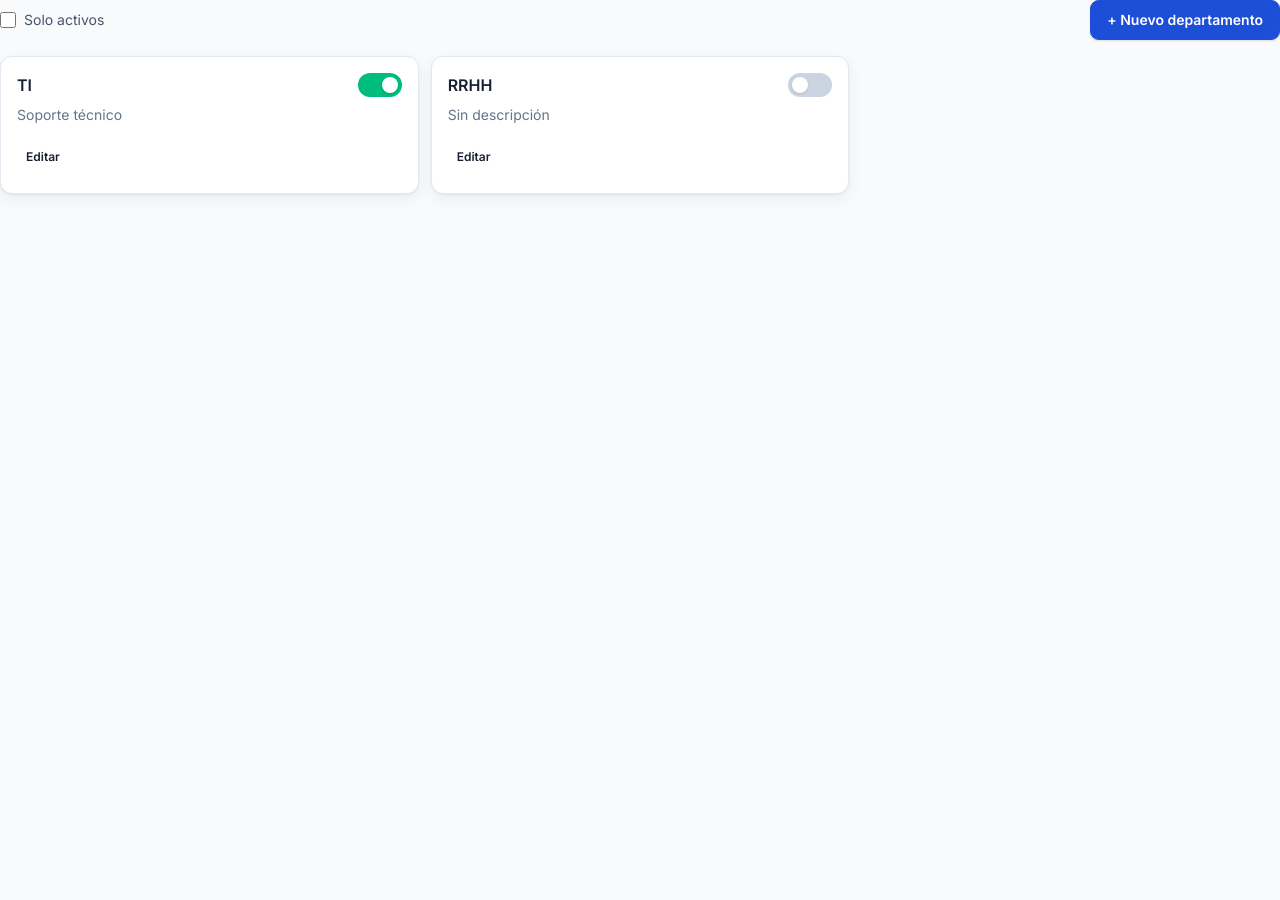
Scenario: Departments › muestra el error dentro del modal al no poder guardar
The width and height of the screenshot is (1280, 900).
Expected: the text "TI" is shown, [17,73,32,97]
Click the button "+ Nuevo departamento" at [1185, 20], box [1090,0,1279,40]
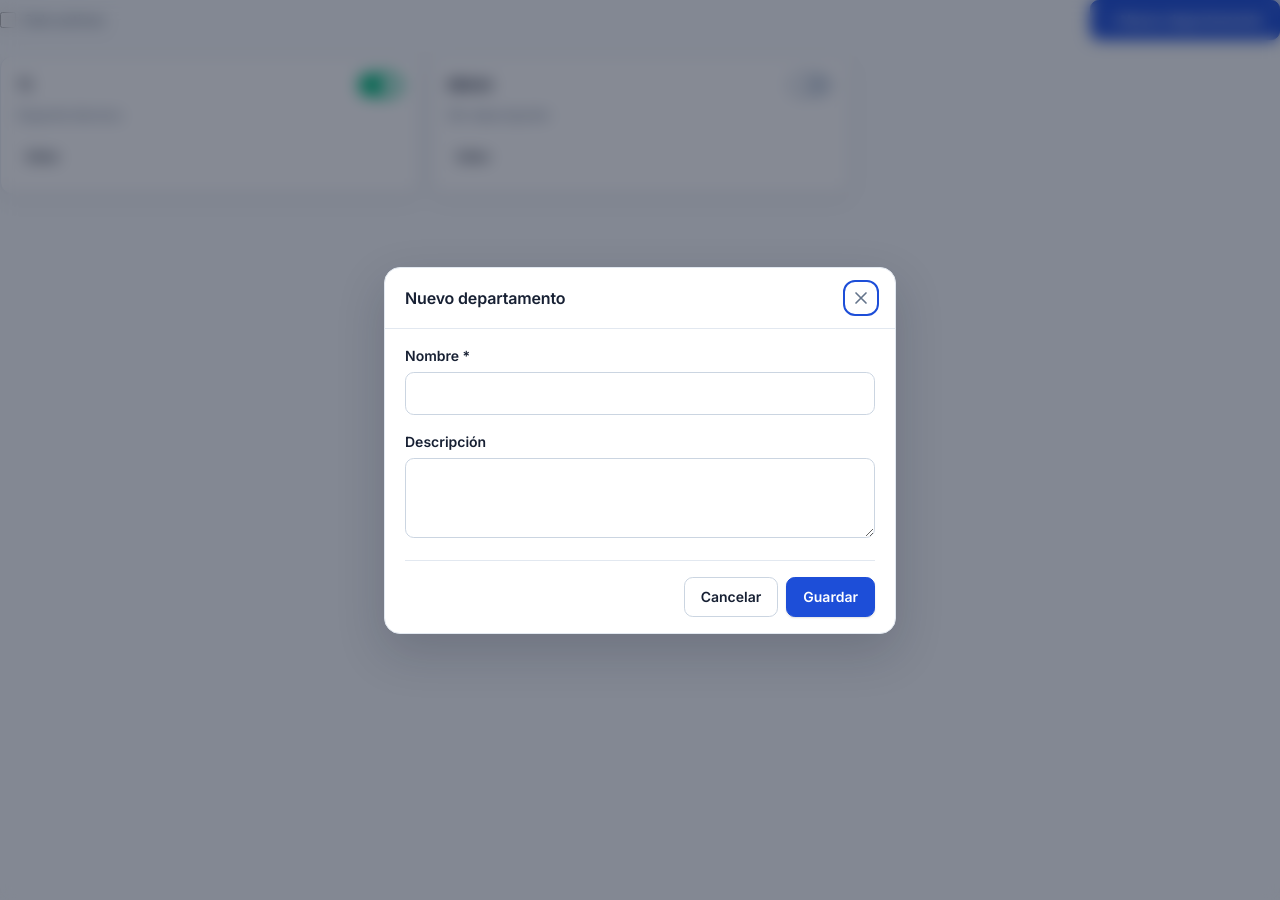
Type "Finanzas" into the field at [640, 393], box [405,372,875,414]
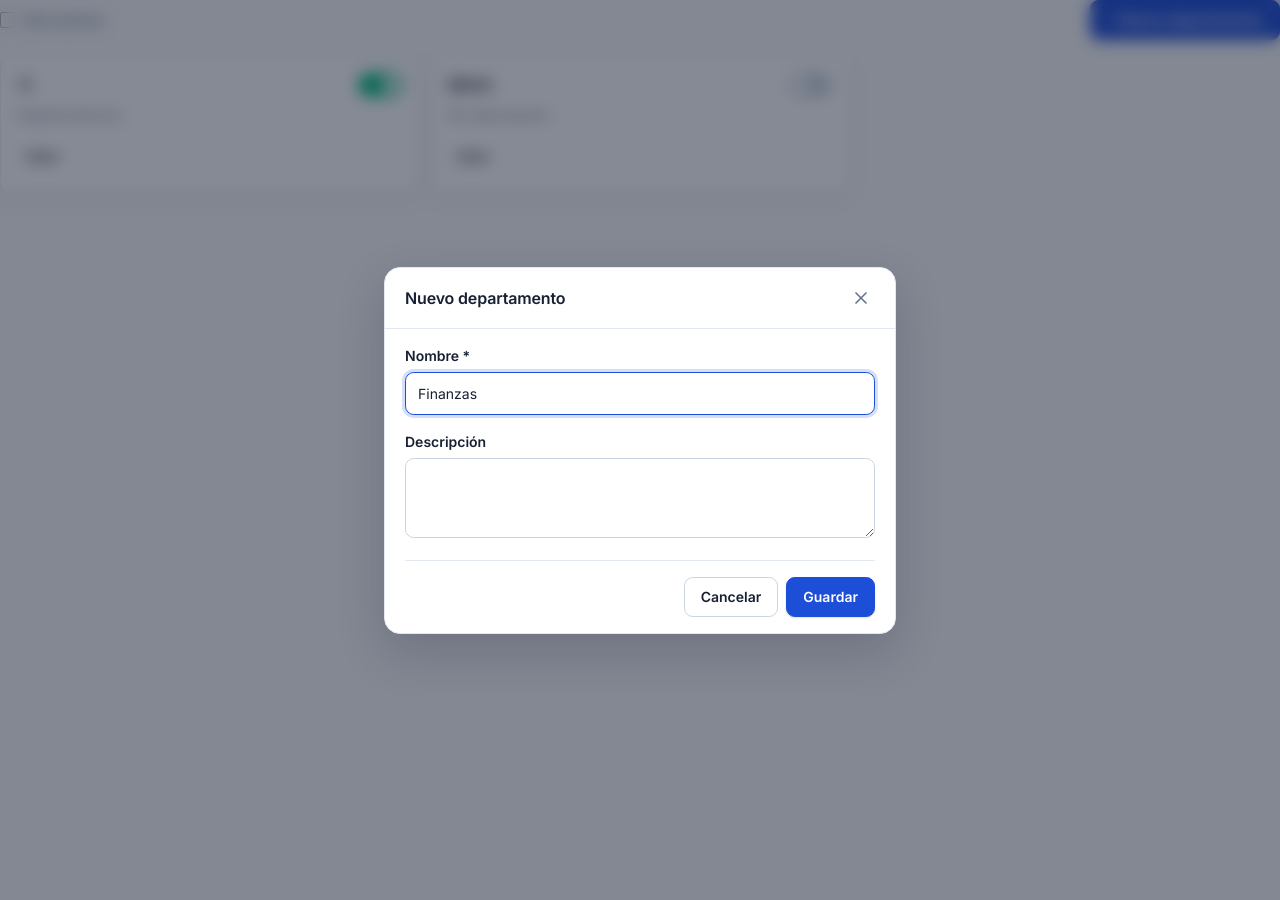
Click the button "Guardar" at [831, 596], box [786,576,875,616]
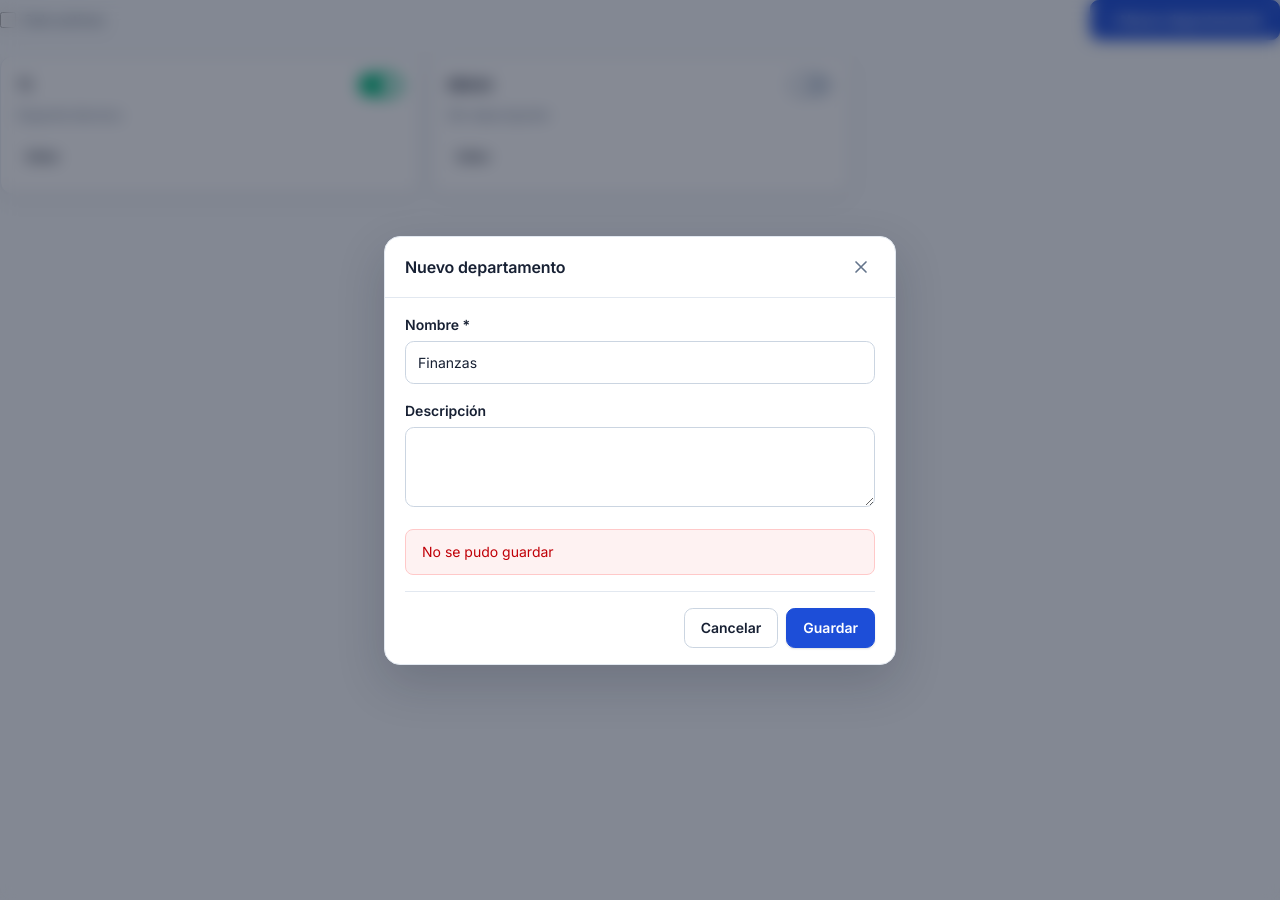
Expected: the dialog "Nuevo departamento" is shown, [384,236,896,664]
Expected: the message "No se pudo guardar" is shown, [405,528,875,574]
